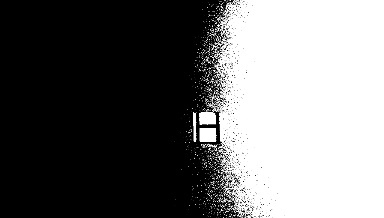H: (192, 111, 223, 141)
